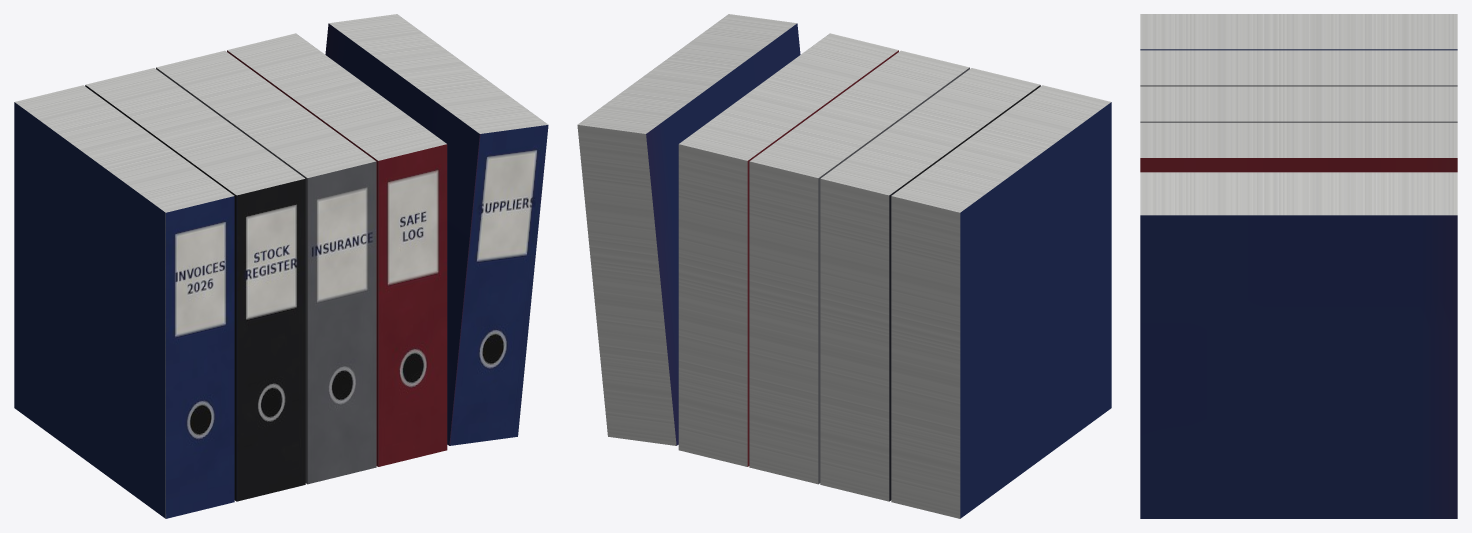
The model's file is LeverArchFiles.obj.
The picture shows the model from 3 angles, left to right: view 1: azimuth 30°, elevation 25°; view 2: azimuth 150°, elevation 25°; view 3: azimuth 270°, elevation 25°; orthographic projection. The views are drawn at different scales.
Parts seen in each view (by area): view 1: Binders; view 2: Binders; view 3: Binders.
Part boxes in pixels (x1=…): Binders: x1=14, y1=14, x2=548, y2=518; Binders: x1=577, y1=14, x2=1111, y2=518; Binders: x1=1140, y1=14, x2=1457, y2=518.
Bounding box in the file's own units: 0.416 × 0.3241 × 0.285.
Materials: 1 (1 with a texture image).
